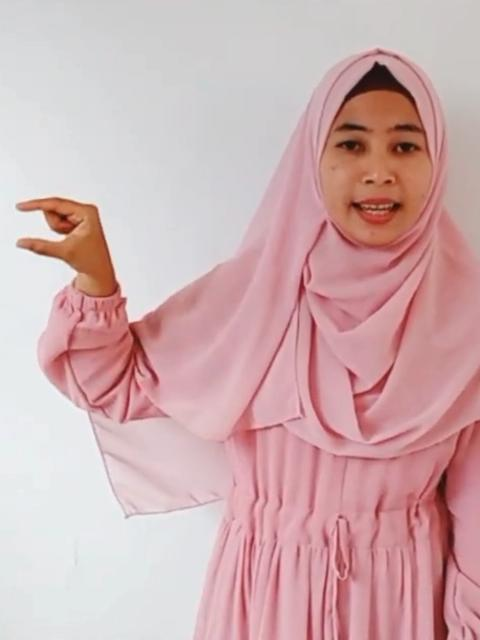G: (13, 194, 114, 276)
